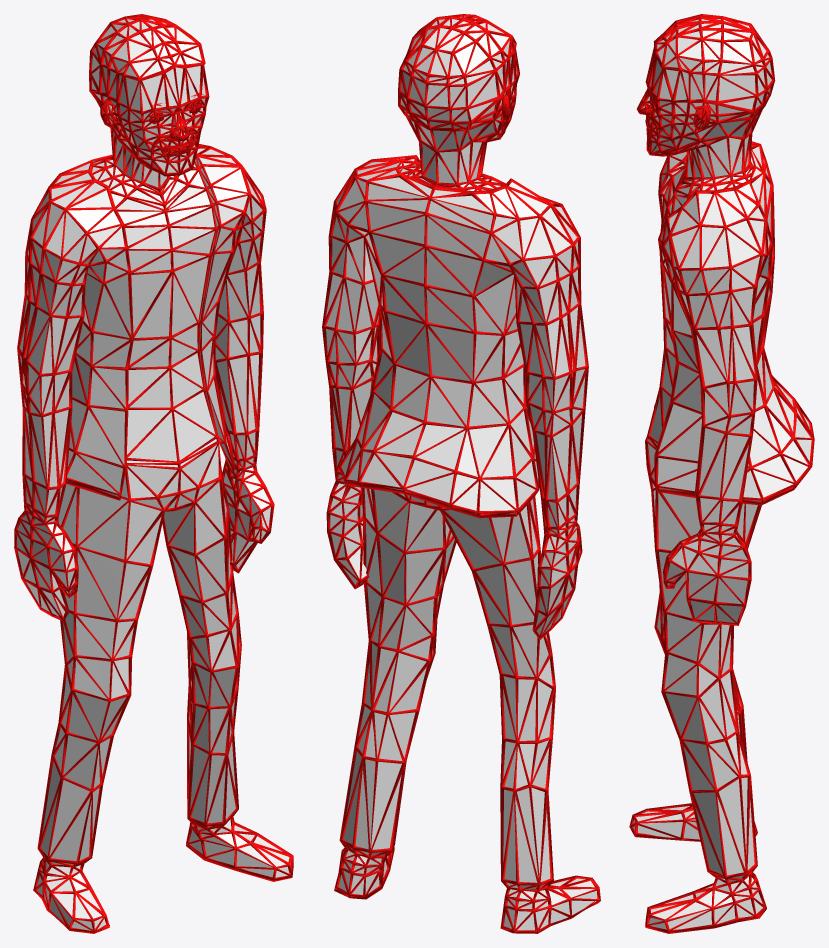
Rendered from elegantIdle_000015.obj.
3 renders of one model, left to right at view 1: azimuth 30°, elevation 25°; view 2: azimuth 150°, elevation 25°; view 3: azimuth 270°, elevation 25°, orthographic. The views are drawn at different scales.
Parts seen in each view (by area): view 1: BaseHuman_Cylinder.002; view 2: BaseHuman_Cylinder.002; view 3: BaseHuman_Cylinder.002.
Boxes of the visible parts, left/top/right/bottom form: BaseHuman_Cylinder.002: left=14, top=14, right=293, bottom=933; BaseHuman_Cylinder.002: left=322, top=14, right=600, bottom=933; BaseHuman_Cylinder.002: left=629, top=14, right=814, bottom=933.
Bounding box in the file's own units: 1.44 × 4.84 × 0.9516.
